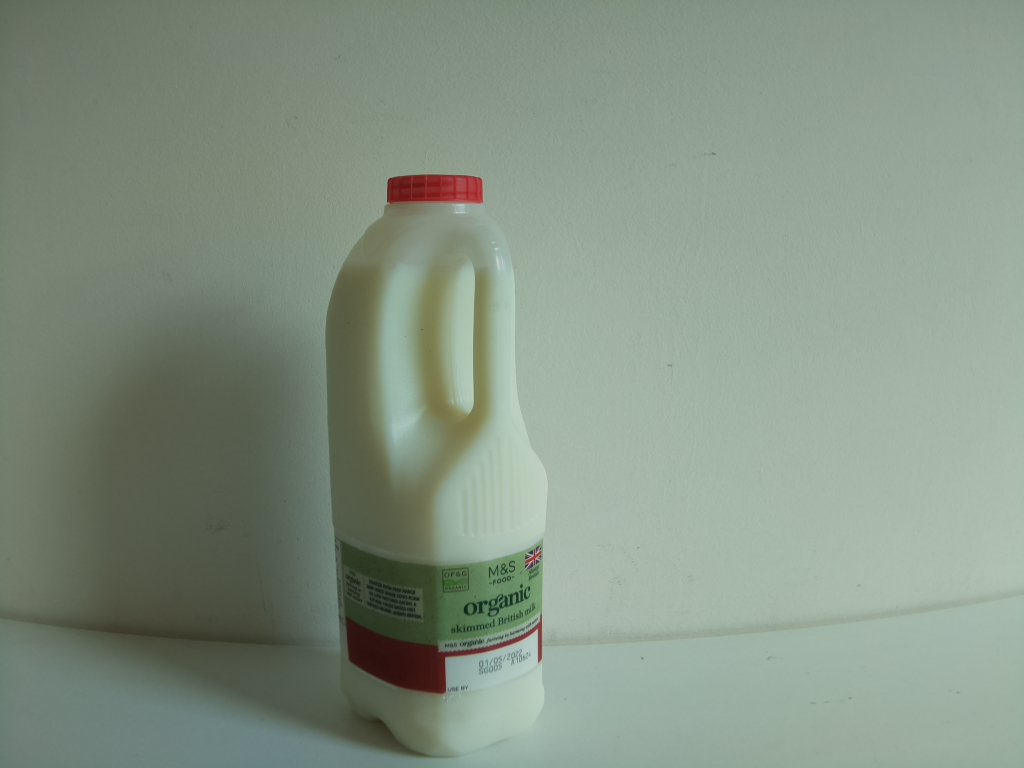milk: (326, 168, 552, 761)
